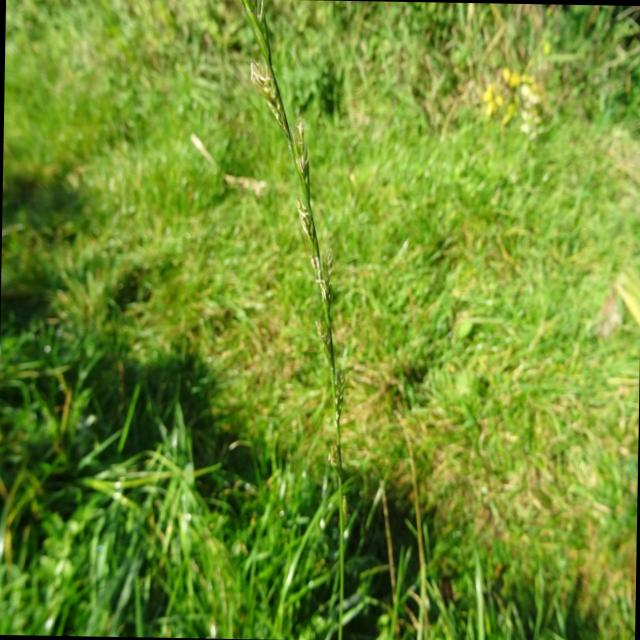Lolium: (225, 1, 362, 638)
